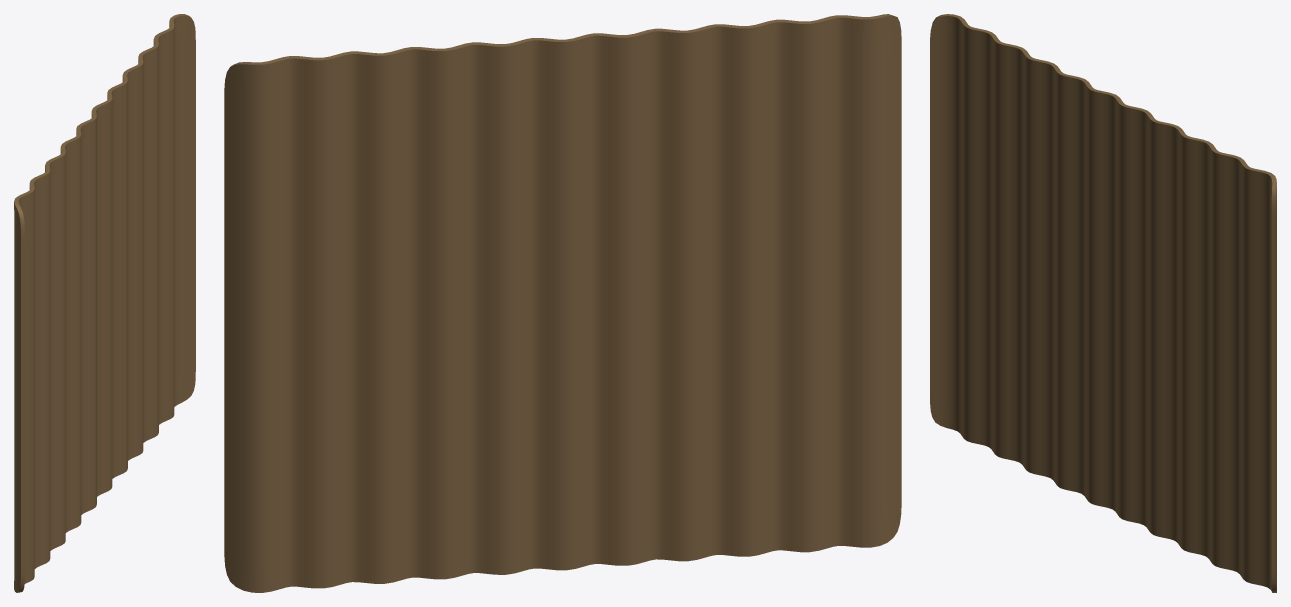
The model's file is door 1.1.fbx.
3 views of the same model, side by side, from view 1: azimuth 30°, elevation 25°; view 2: azimuth 150°, elevation 25°; view 3: azimuth 270°, elevation 25° (orthographic). The views are drawn at different scales.
Parts seen in each view (by area): view 1: corrugated door; view 2: corrugated door; view 3: corrugated door.
Part boxes in pixels (<box>): corrugated door: <box>14,14,195,592</box>; corrugated door: <box>224,14,901,592</box>; corrugated door: <box>930,14,1276,592</box>.
Size of the model in its own units: 3.52 by 3.89 by 2.96.
